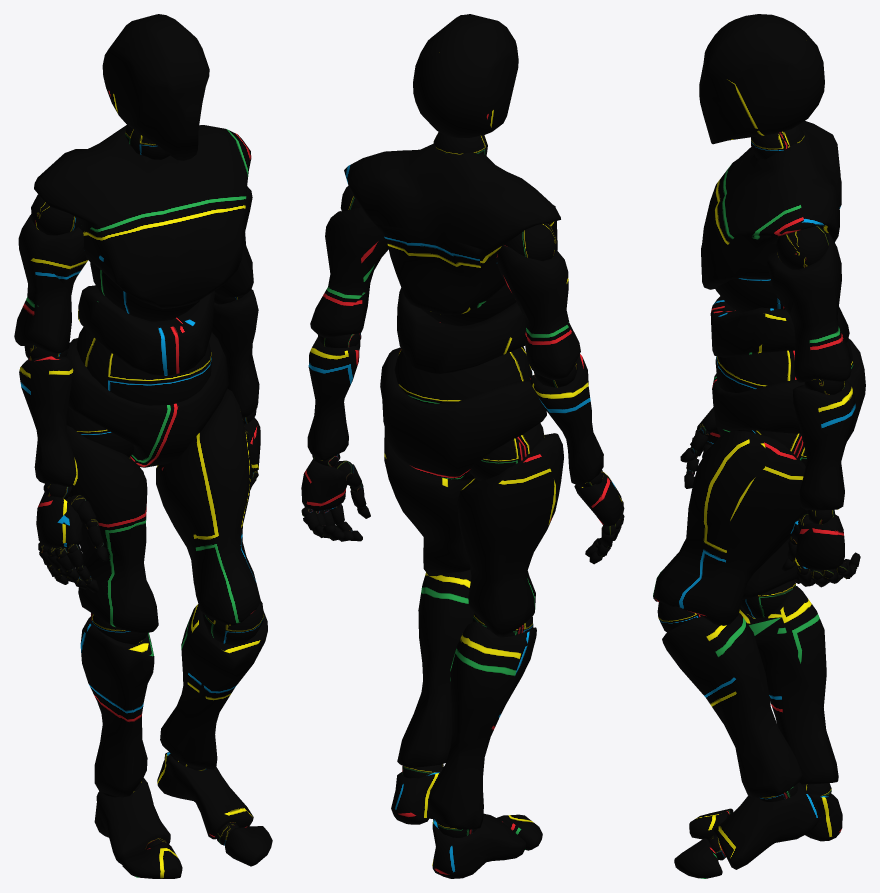
Rendered from y-bot-origin_000014.obj.
3 views of the same model, side by side, from view 1: azimuth 30°, elevation 25°; view 2: azimuth 150°, elevation 25°; view 3: azimuth 270°, elevation 25° (orthographic).
Parts seen in each view (by area): view 1: Alpha_Surface_Alpha_SurfaceMesh, Alpha_Joints_Alpha_JointsMesh; view 2: Alpha_Surface_Alpha_SurfaceMesh, Alpha_Joints_Alpha_JointsMesh; view 3: Alpha_Surface_Alpha_SurfaceMesh, Alpha_Joints_Alpha_JointsMesh.
Part boxes in pixels (x1=…): Alpha_Surface_Alpha_SurfaceMesh: x1=14, y1=14, x2=272, y2=878; Alpha_Joints_Alpha_JointsMesh: x1=24, y1=125, x2=263, y2=849; Alpha_Surface_Alpha_SurfaceMesh: x1=301, y1=14, x2=624, y2=878; Alpha_Joints_Alpha_JointsMesh: x1=301, y1=132, x2=624, y2=837; Alpha_Surface_Alpha_SurfaceMesh: x1=653, y1=14, x2=865, y2=878; Alpha_Joints_Alpha_JointsMesh: x1=657, y1=124, x2=857, y2=860.
Size of the model in its own units: 0.5928 by 1.79 by 0.4173.
